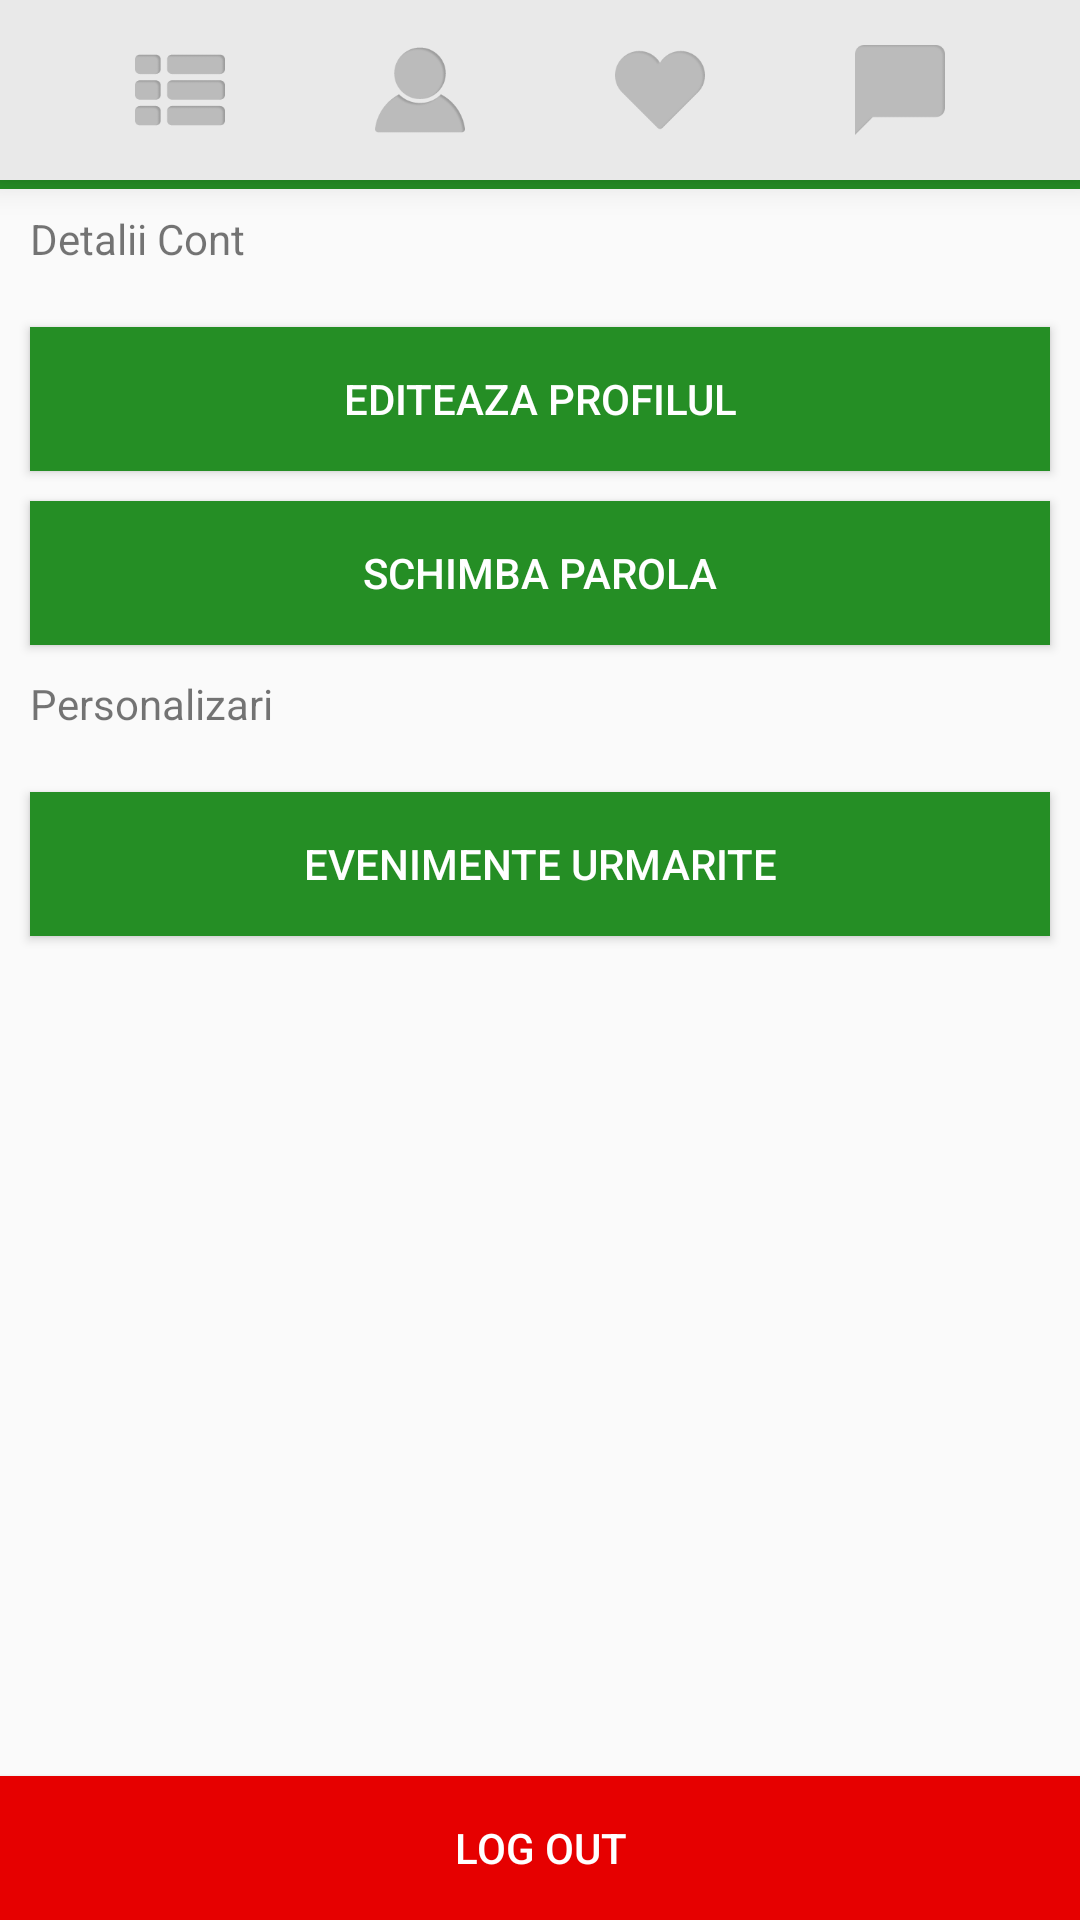

Icon click points for this 1080x1920 phone screenshot, format (x,y):
heart: (660,90)
user: (420,90)
